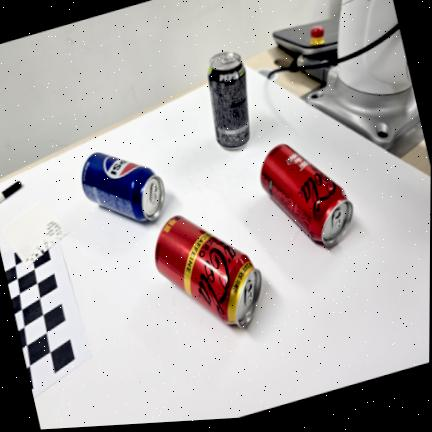can_coke_decaf: (155, 215, 262, 327)
can_coke_zero: (261, 144, 353, 246)
can_pepsi: (82, 152, 165, 221)
can_pepsi_zero: (208, 52, 250, 149)
